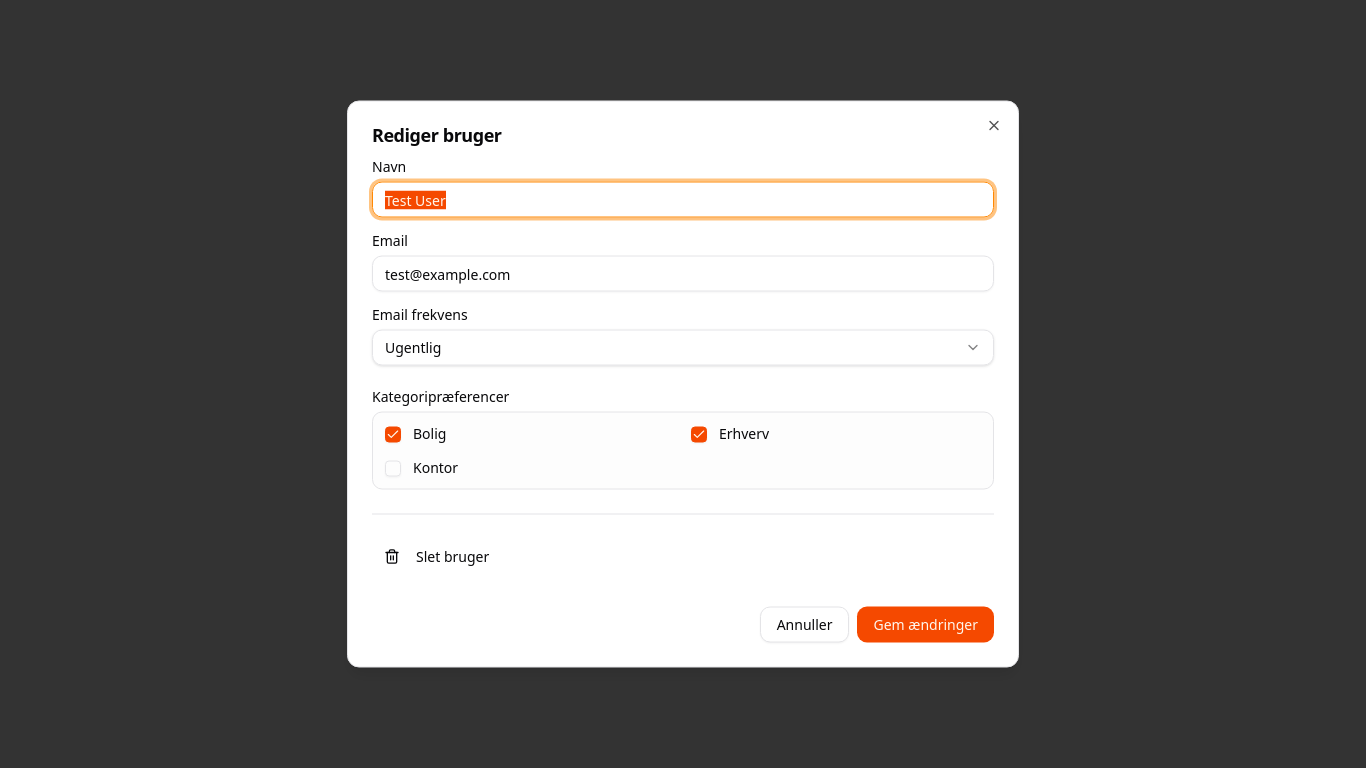
Test case: UserEditModal › shows delete confirmation when delete button is clicked
Click the button "Slet bruger": (437, 556) top-left (372, 538), bottom-right (501, 574)
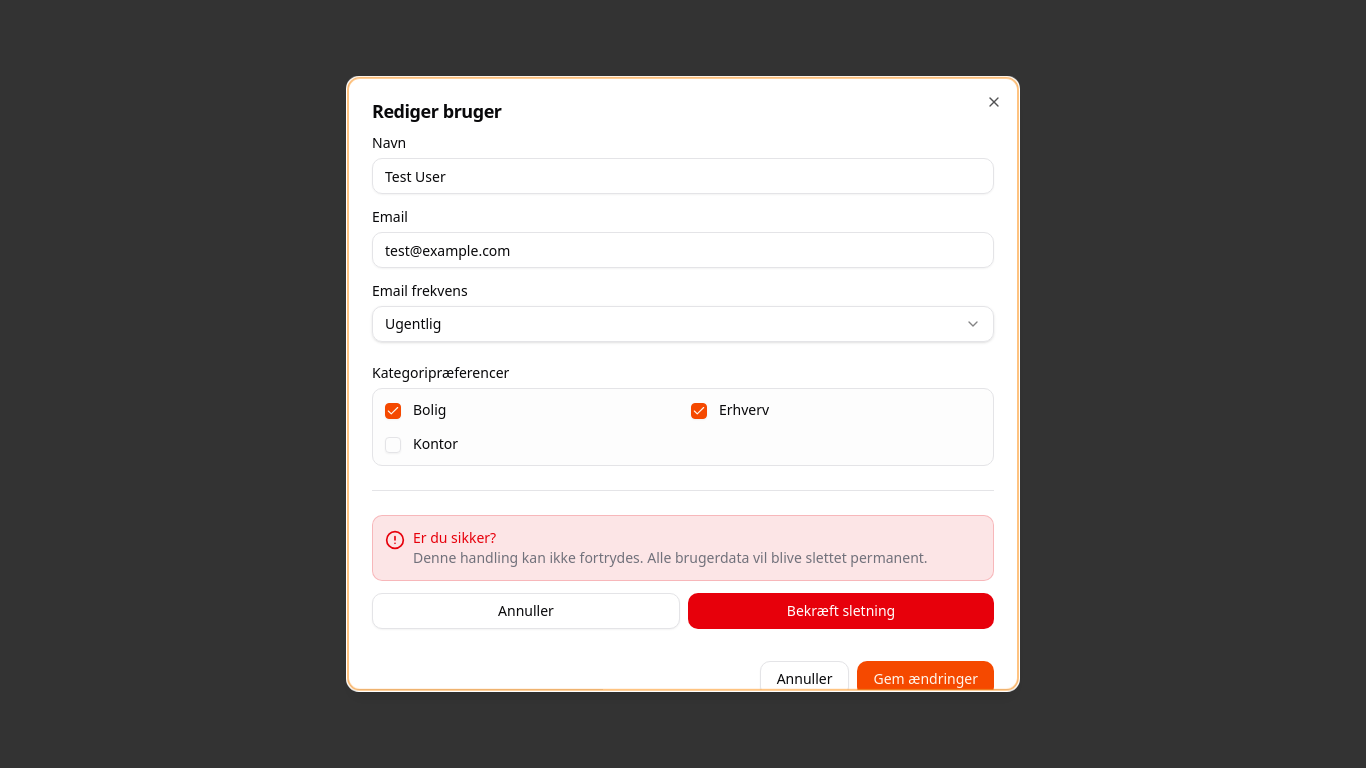
Result: the text "Er du sikker?" is shown at top-left (413, 528), bottom-right (496, 547)
Result: the button "Bekræft sletning" is shown at top-left (688, 593), bottom-right (994, 629)
